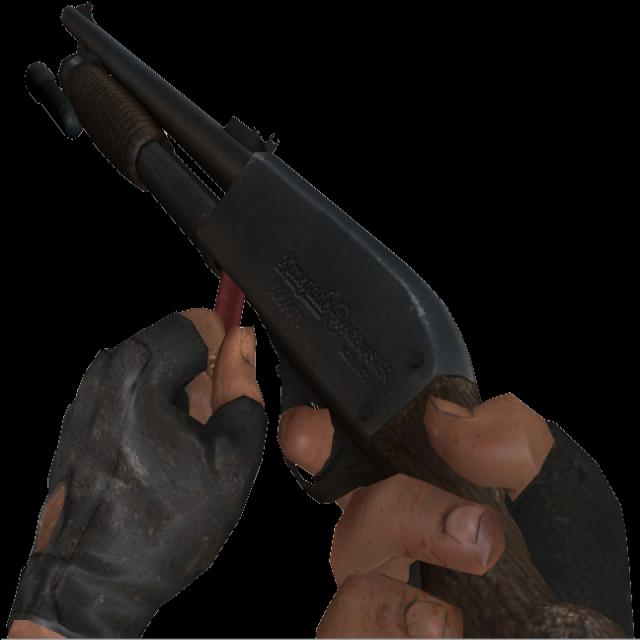ShotGun: (23, 0, 606, 636)
